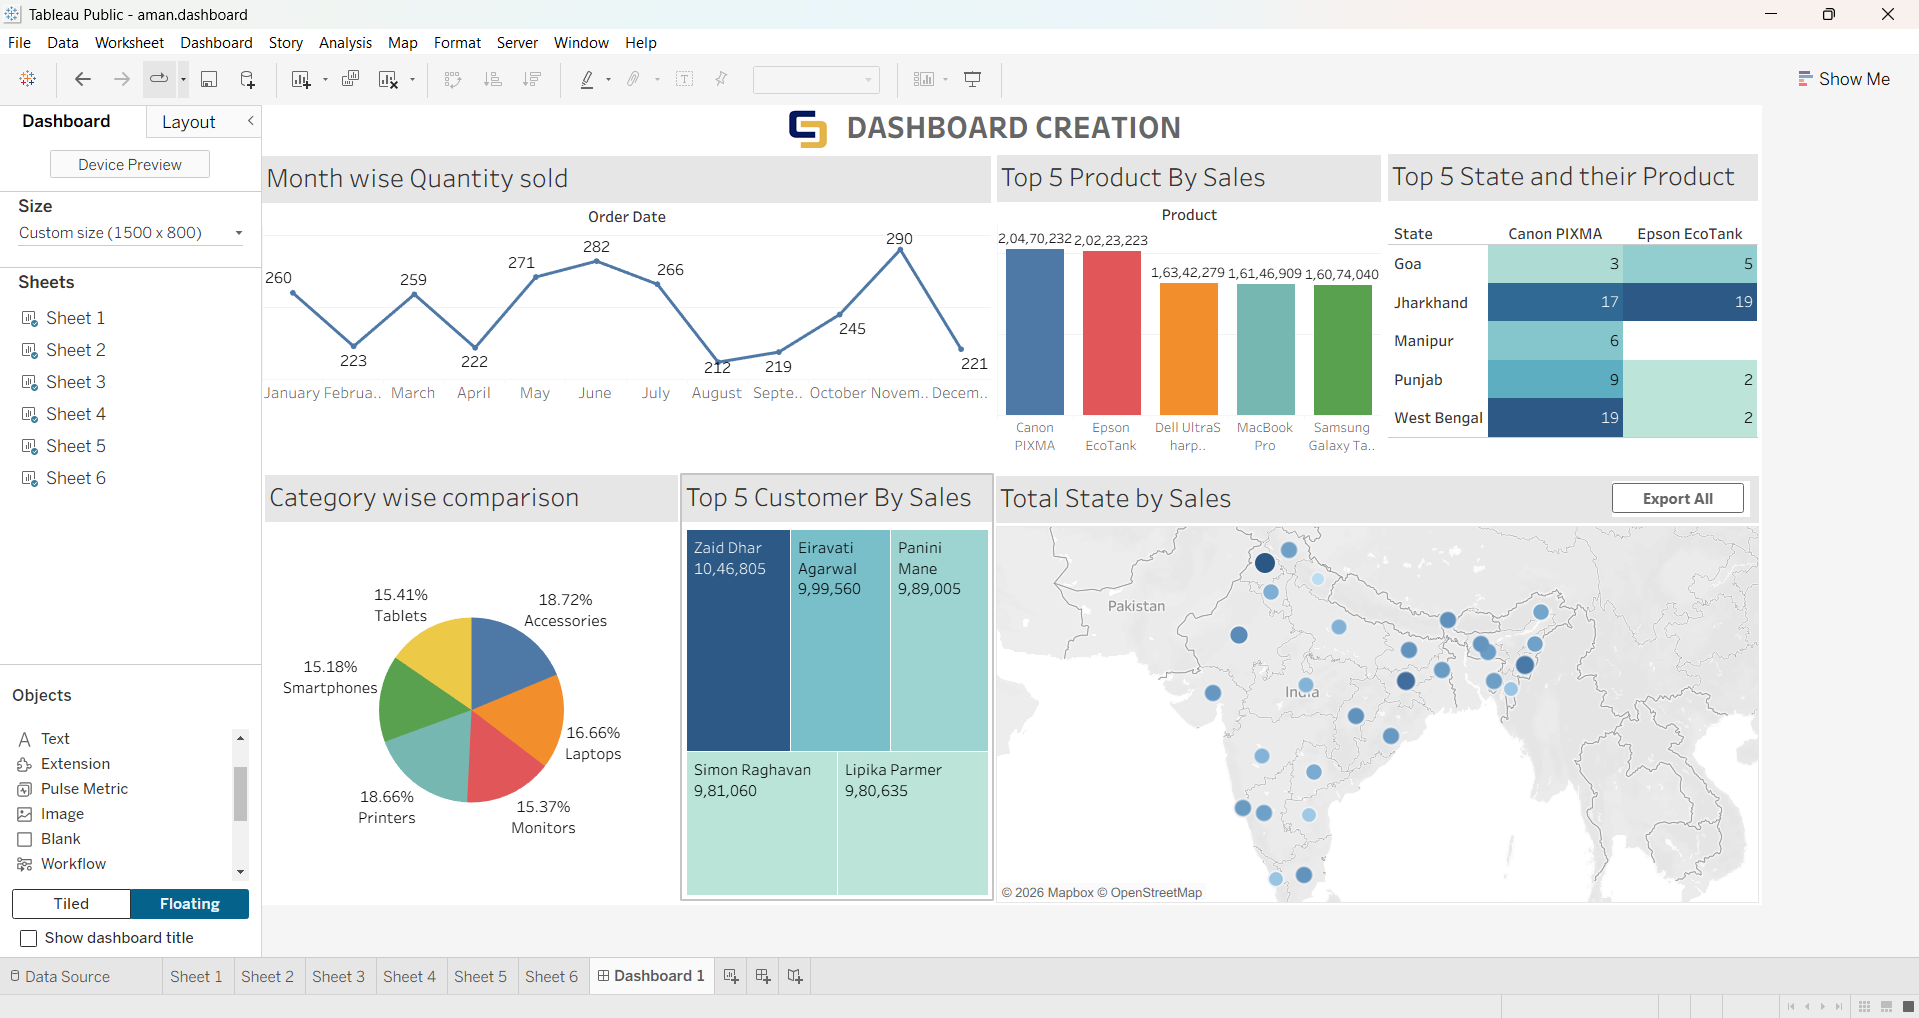

Layout of this report page (visuals, bound fields, positions):
{"tool":"tableau","page":{"name":"Dashboard 1","canvas":[1500,800],"ordinal":0},"visuals":[{"type":"text","box":[581,0,345,41]},{"type":"image","param":"Image/WhatsApp Image 2026-10-26 at 9.50.38 AM.jpeg","box":[526,4,50,40]},{"type":"worksheet","title":"Sheet 6","mark":"Square","rows":["State"],"cols":["Product"],"box":[1126,49,370,284]},{"type":"worksheet","title":"Sheet 2","mark":"Automatic","rows":["Calculation_1069884618448896"],"cols":["Product"],"box":[735,50,384,300]},{"type":"worksheet","title":"Sheet 1","mark":"Line","rows":["Quantity"],"cols":["Order Date"],"box":[0,51,729,301]},{"type":"worksheet","title":"Sheet 3","mark":"Pie","box":[3,370,413,420]},{"type":"worksheet","title":"Sheet 4","mark":"Automatic","box":[420,370,310,424]},{"type":"worksheet","title":"Sheet 5","mark":"Automatic","box":[734,371,763,427]},{"type":"dashboard-object","param":"[com.theinformationlab.extensions.exportall].[1.0.0].[https://exportallextension","box":[1350,376,138,36]}]}

Visuals, with their boxes on the page's 1500x800 design canvas (x1, y1, x2, y2). These are canvas units, not pixel positions in the 1919x1018 screenshot, which may show the page scaled, cropped or inside an application window:
text: select_region(581, 0, 926, 41)
image: select_region(526, 4, 576, 44)
"Sheet 6" worksheet (Square marks): select_region(1126, 49, 1496, 333)
"Sheet 2" worksheet: select_region(735, 50, 1119, 350)
"Sheet 1" worksheet (Line marks): select_region(0, 51, 729, 352)
"Sheet 3" worksheet (Pie marks): select_region(3, 370, 416, 790)
"Sheet 4" worksheet: select_region(420, 370, 730, 794)
"Sheet 5" worksheet: select_region(734, 371, 1497, 798)
dashboard-object: select_region(1350, 376, 1488, 412)
